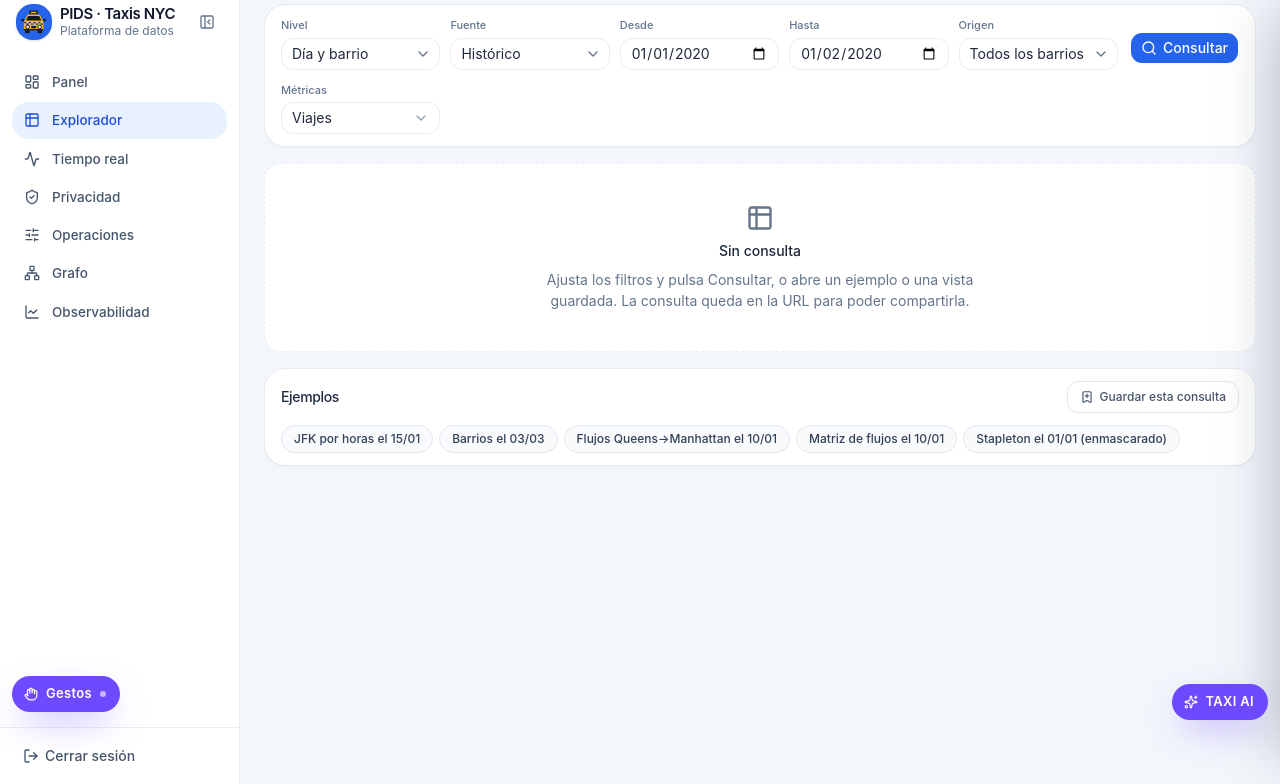
it: PaginaExplorador › guarda la consulta actual como vista y la vuelve a lanzar
Click the button "Guardar esta consulta": x=1153, y=397 [1067,381,1239,413]
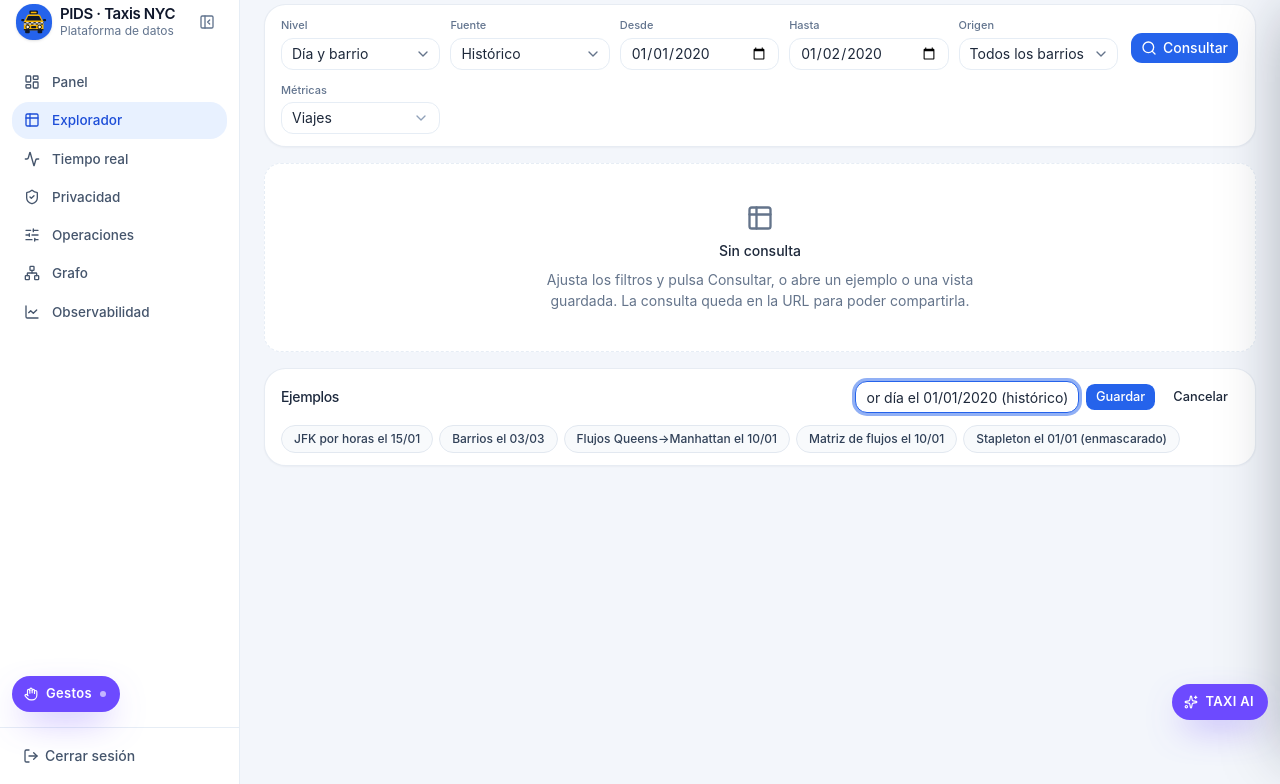
Replace the text in the field named "Nombre de la vista" with "Mi día de enero": x=967, y=397 [855,381,1079,413]
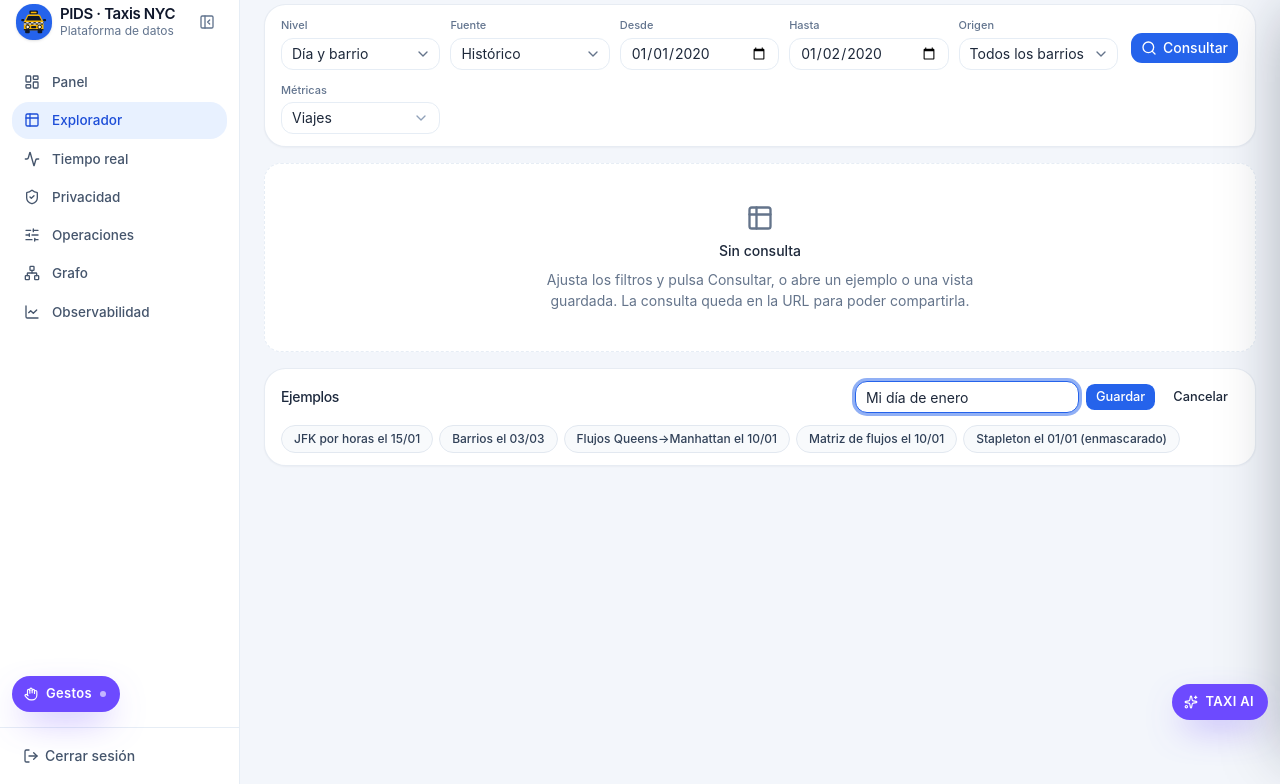
Click the button "Guardar": x=1121, y=397 [1085,383,1156,411]
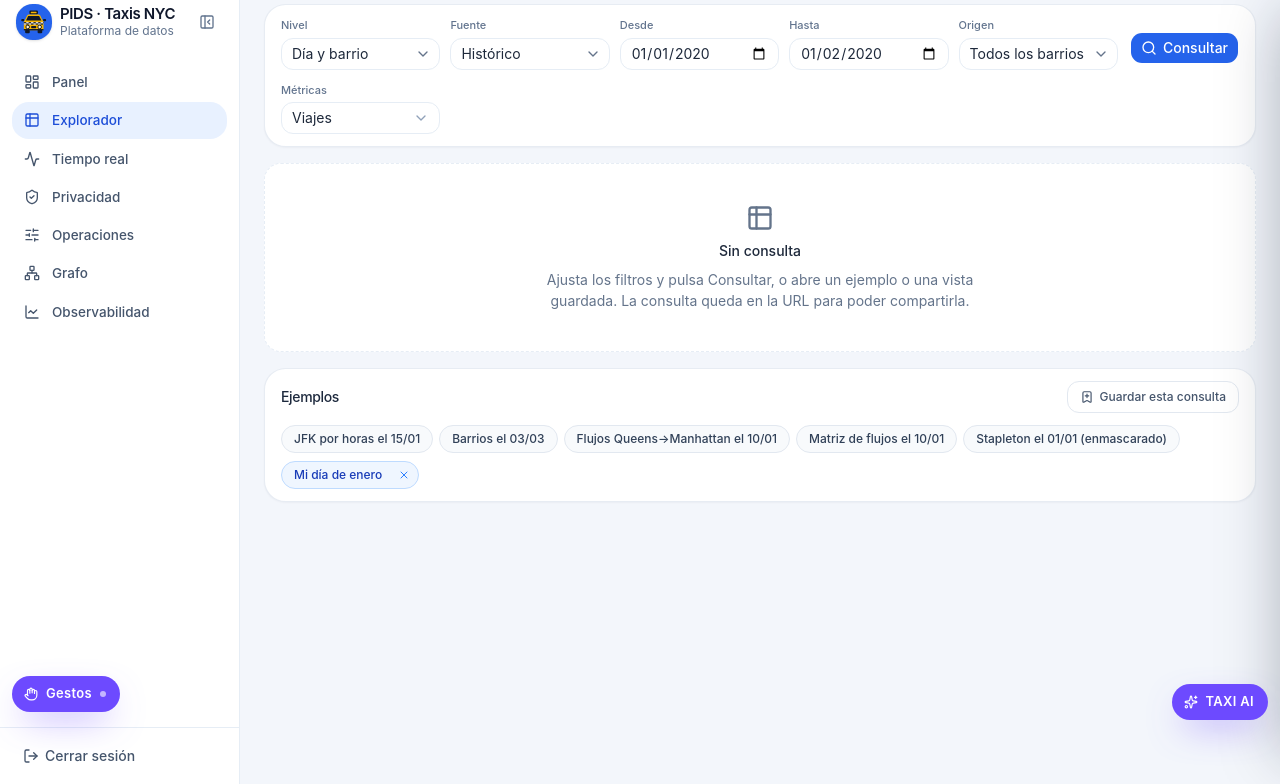
Click the button "Mi día de enero": x=338, y=475 [282,467,394,483]
(page scrolled)
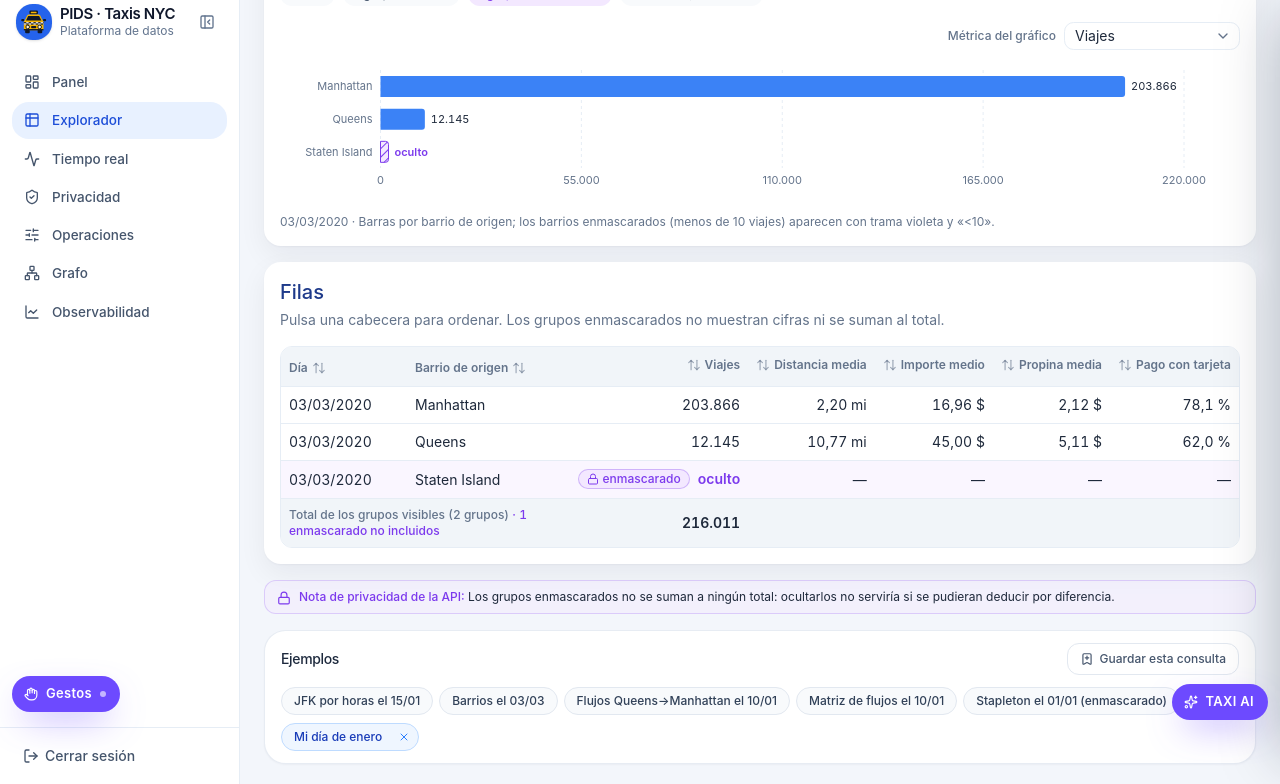
Now the picture named "Viajes por barrio de origen" is shown, box [280,62,1240,202]
Click the button named "Quitar Mi día de enero": x=404, y=738 [394,728,414,748]
(page scrolled)
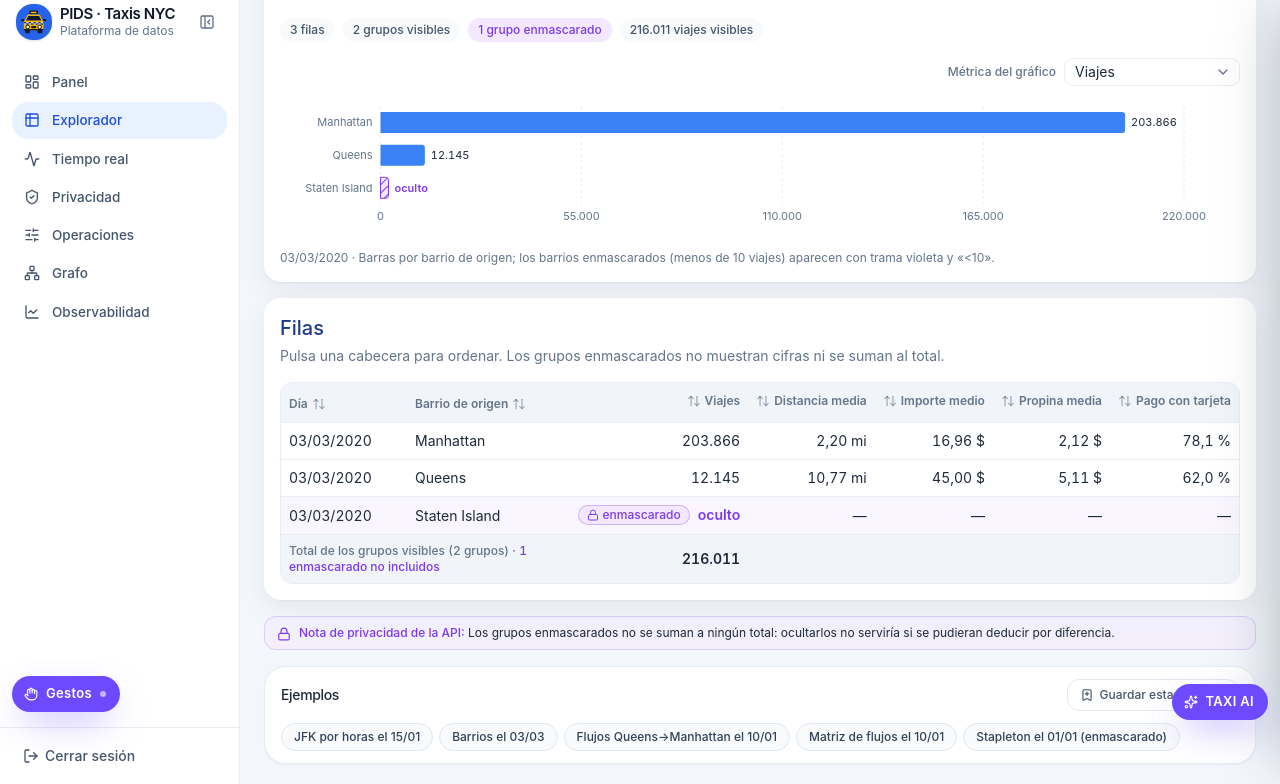
Now the button "Mi día de enero" is gone
